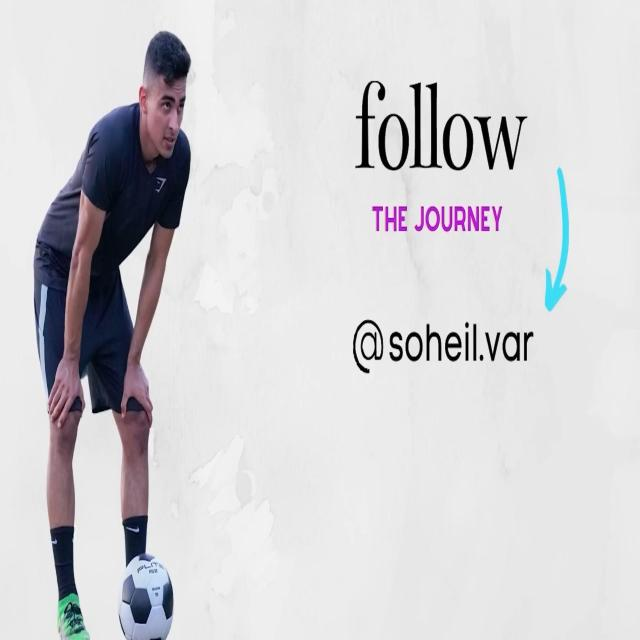Soccer Ball: (117, 552, 173, 640)
